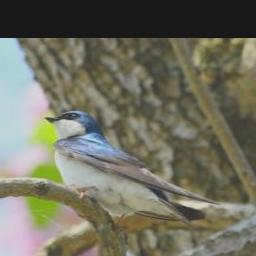Swallow: (44, 109, 222, 235)
